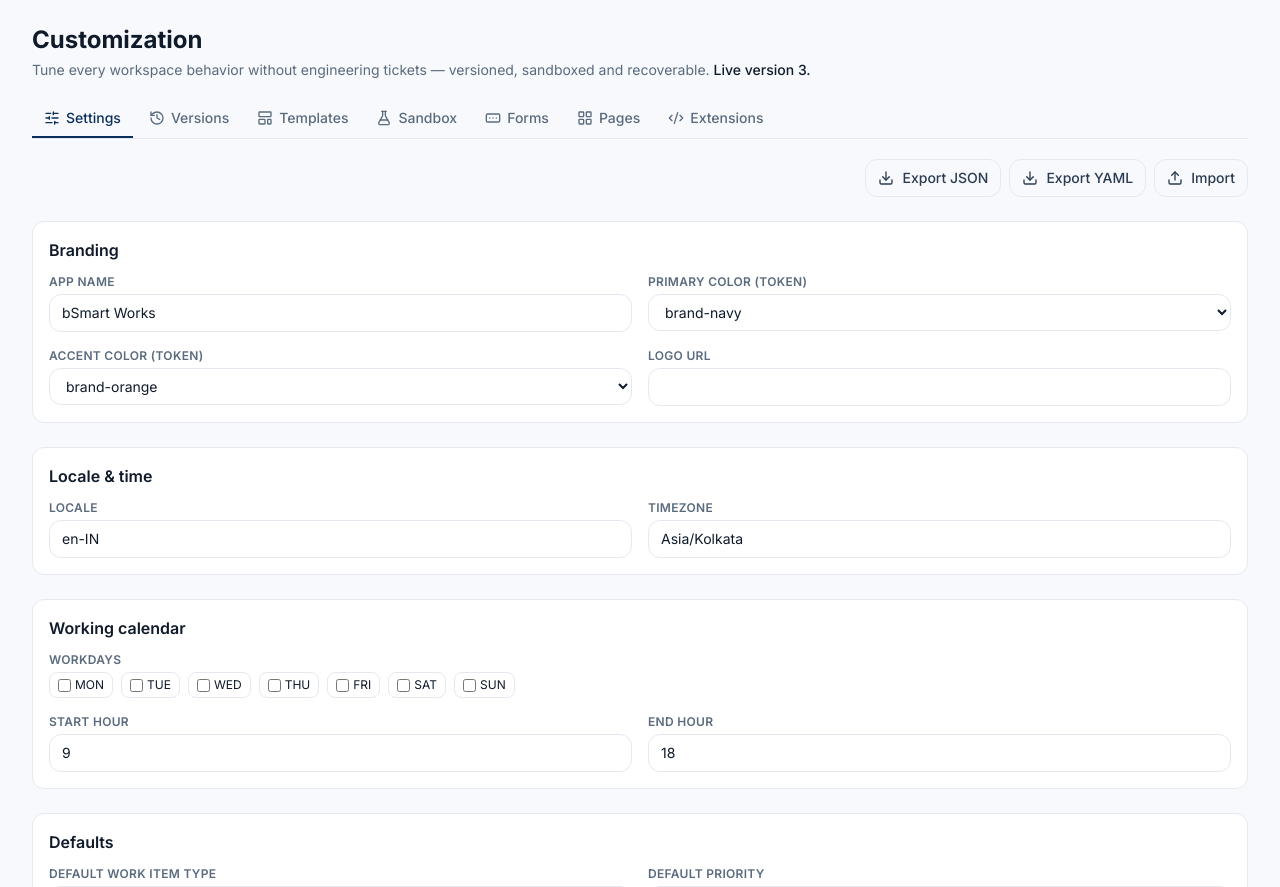
CustomizationView › loads versions when the Versions tab is opened
This screenshot has width=1280, height=887.
Expected: the text "Live version 3." is shown, [714,61,811,78]
Click the button "Versions" at (189, 119), box [137,100,241,138]
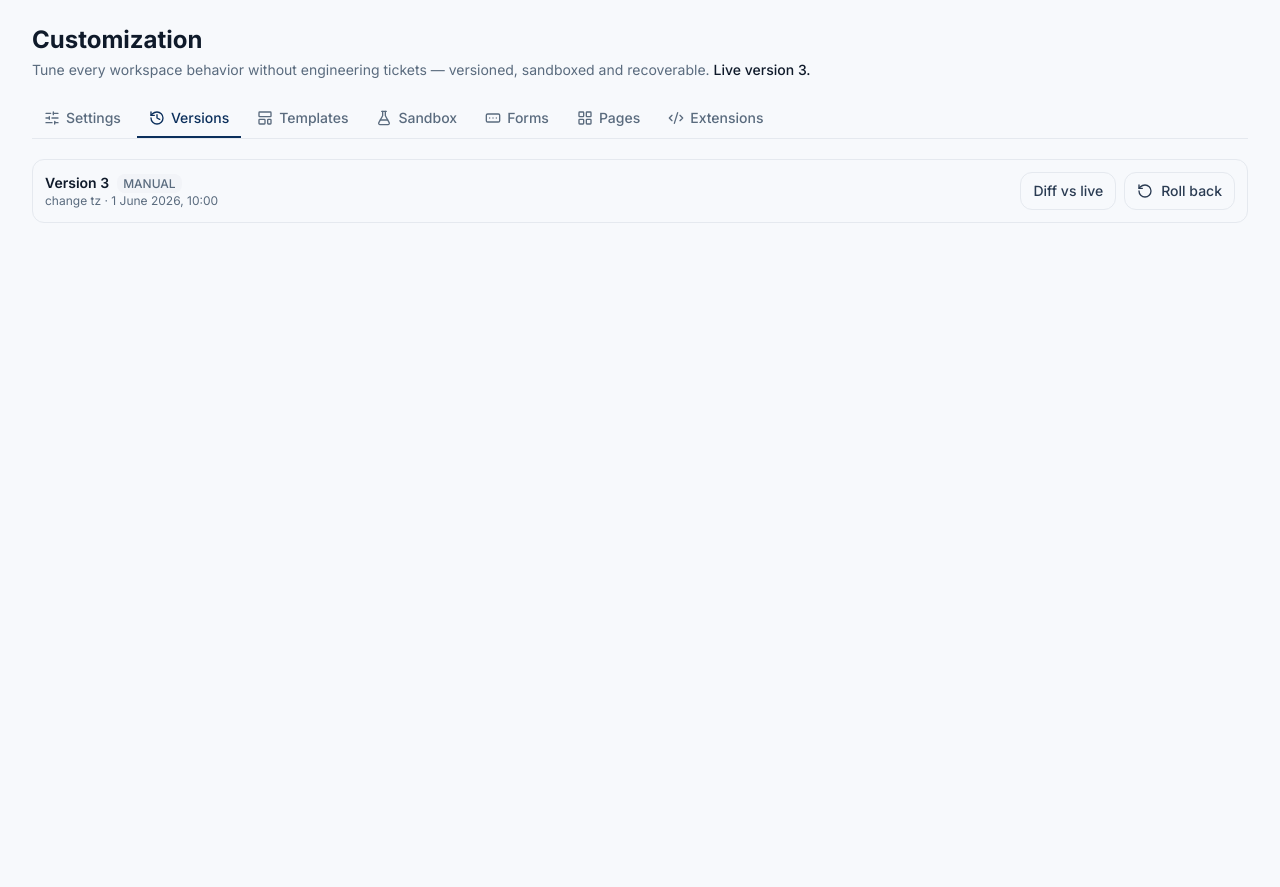
Expected: the text "change tz · 1 June 2026, 10:00" is shown, [45,193,218,209]
Expected: the text "MANUAL" is shown, [117,174,182,193]
